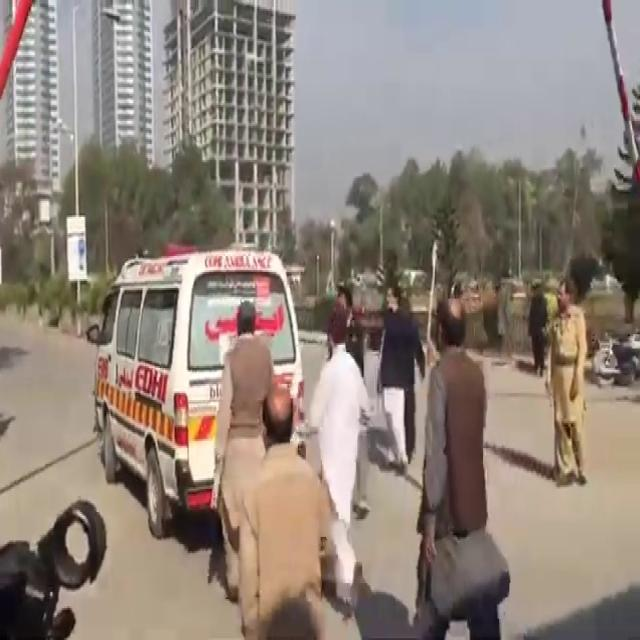ambulance: (90, 216, 332, 503)
